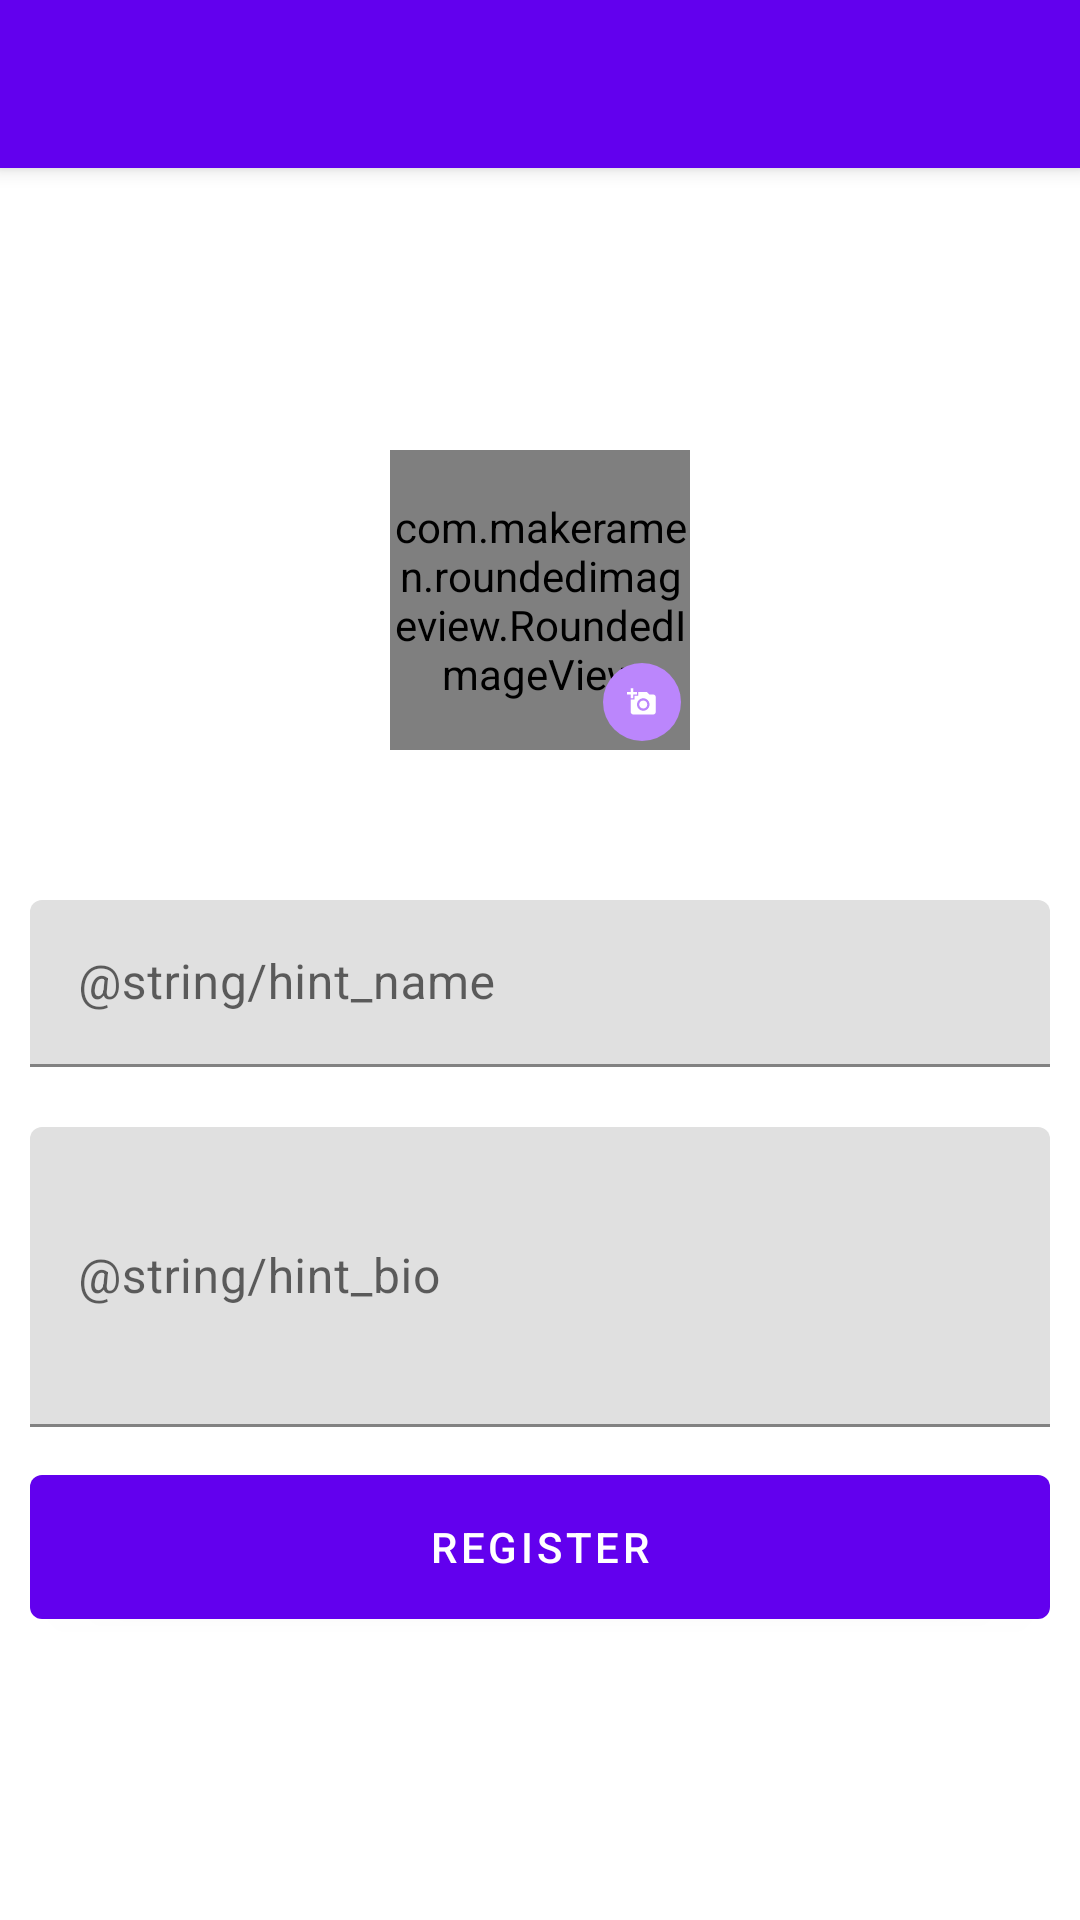

Icon click points for this 1080 x 1920 phone screenshot, format point (x, y):
add photo: point (642, 702)
